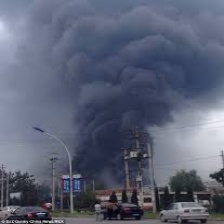smoke: (28, 1, 214, 169)
